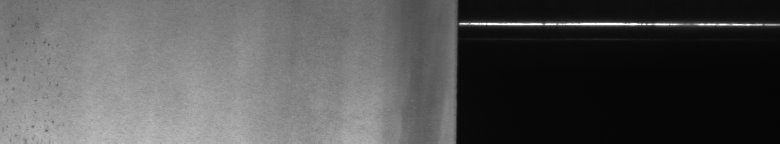ib: (4, 22, 65, 132)
